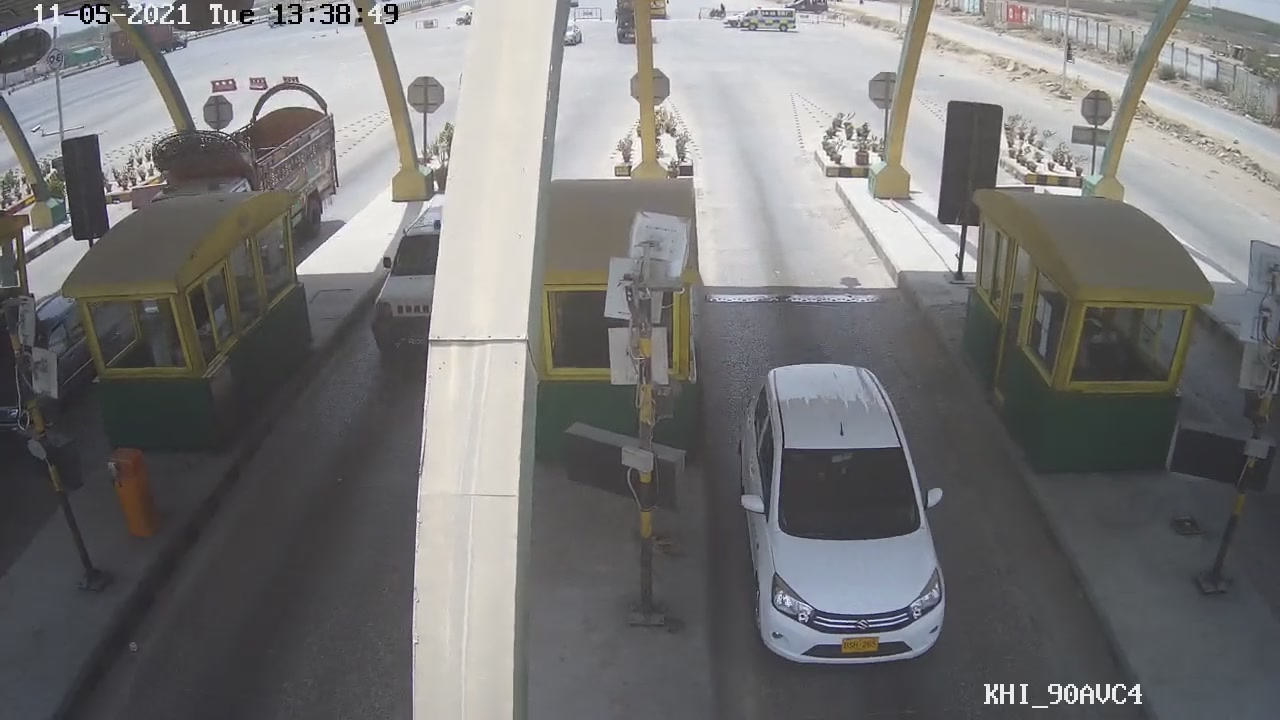F1: (732, 359, 959, 677)
